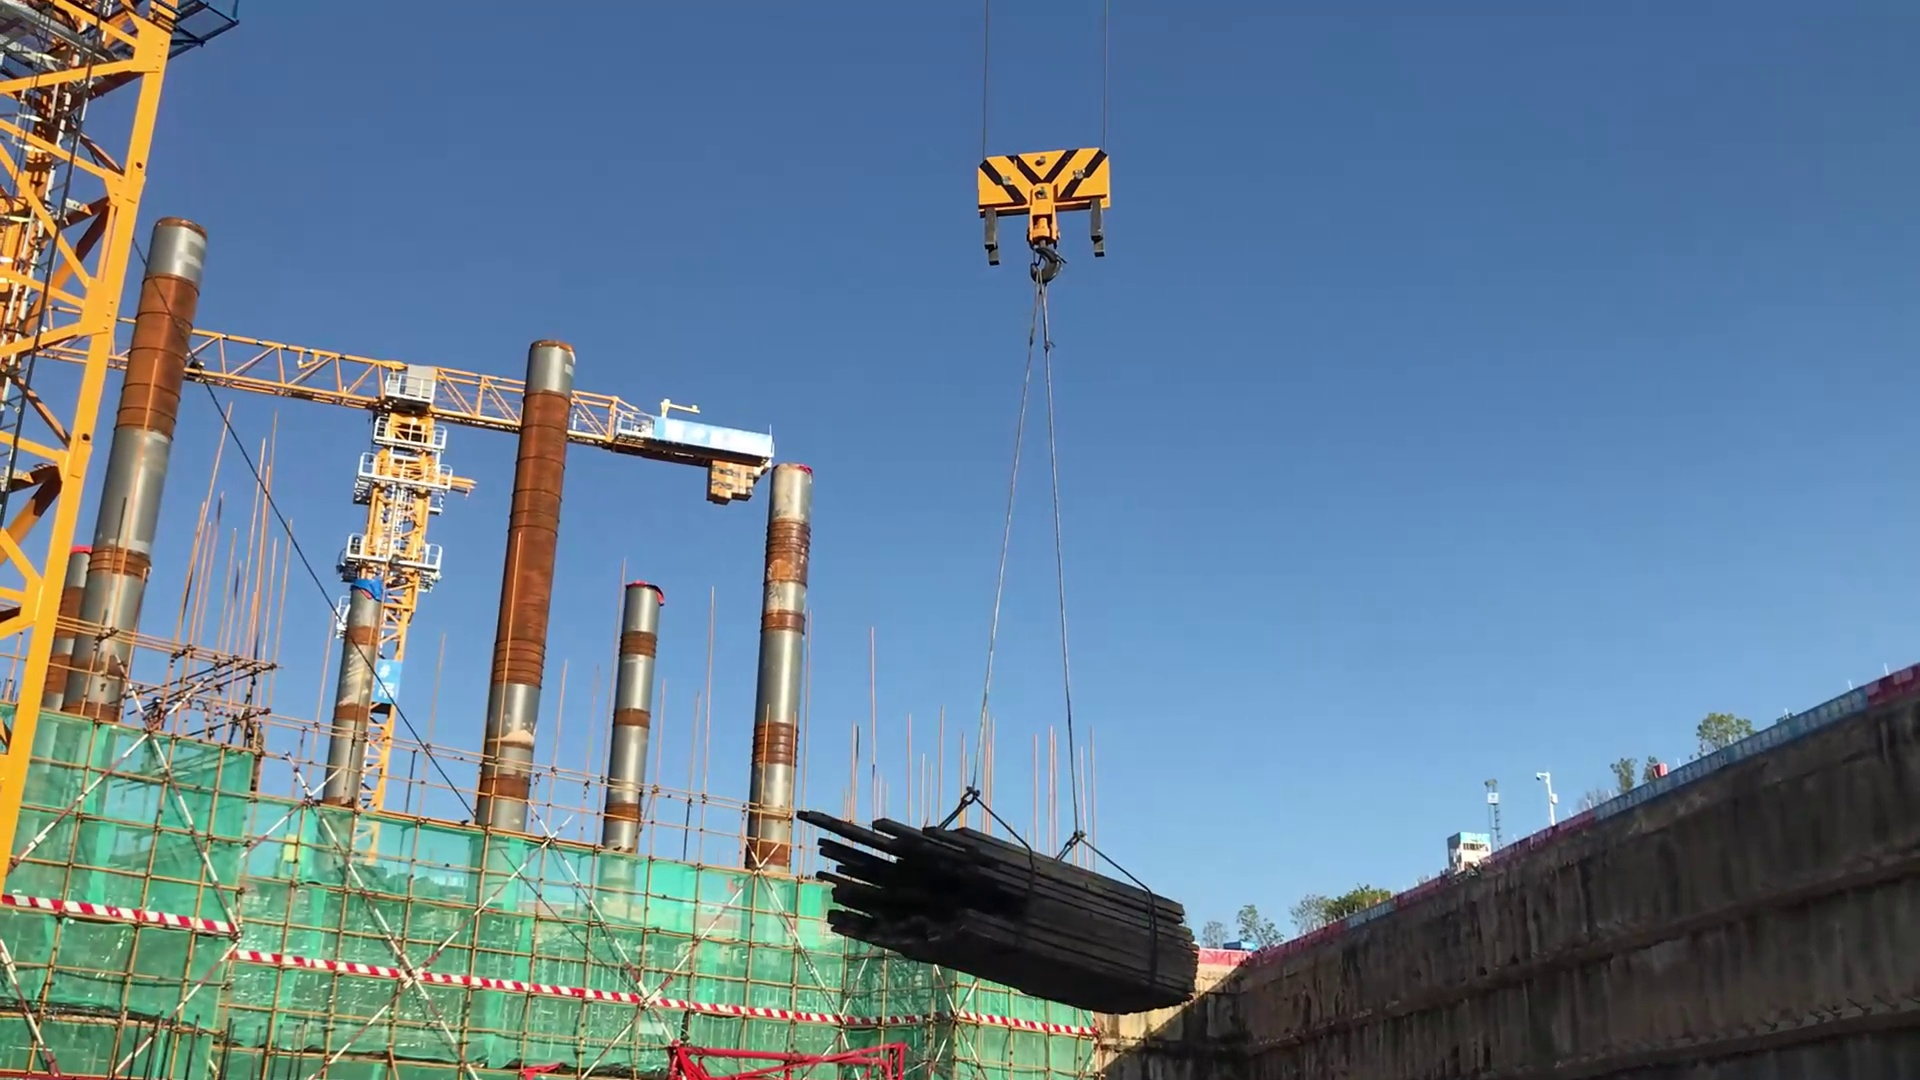hook: (967, 131, 1127, 301)
slogan: (1582, 673, 1888, 807)
wood: (775, 781, 1218, 1019)
